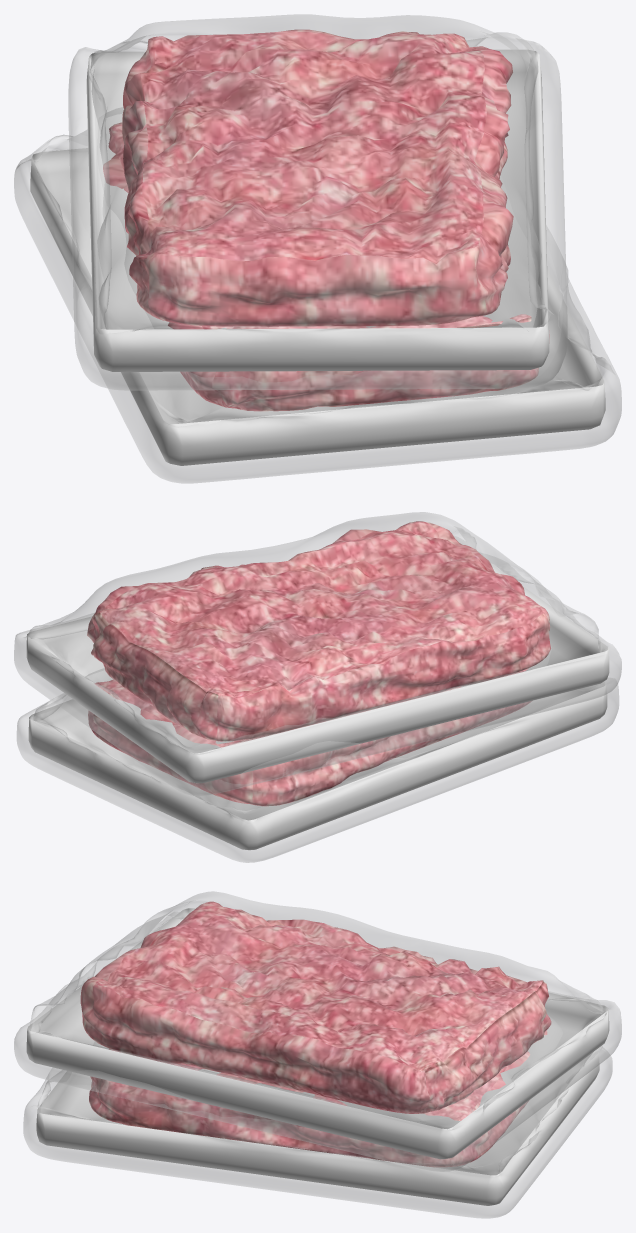
Rendered from mince.glb.
The picture shows the model from 3 angles, top to bottom: view 1: azimuth 30°, elevation 25°; view 2: azimuth 150°, elevation 25°; view 3: azimuth 270°, elevation 25°; orthographic projection. The views are drawn at different scales.
Visible parts, largest first — view 1: Wrap.001, MinceContainer.001, Wrap, MinceContainer; view 2: Wrap.001, MinceContainer.001, Wrap, MinceContainer; view 3: Wrap.001, MinceContainer.001, Wrap, MinceContainer.
Boxes of the visible parts, x1,y1,x2,y2 form: Wrap.001: [68, 14, 567, 390]; MinceContainer.001: [86, 29, 549, 371]; Wrap: [14, 107, 621, 483]; MinceContainer: [30, 122, 605, 465]; Wrap.001: [14, 512, 621, 795]; MinceContainer.001: [26, 521, 609, 783]; Wrap: [17, 648, 618, 862]; MinceContainer: [28, 668, 607, 850]; Wrap.001: [14, 891, 621, 1171]; MinceContainer.001: [26, 901, 609, 1159]; Wrap: [23, 1016, 612, 1218]; MinceContainer: [36, 1030, 599, 1205].
Size of the model in its own units: 0.891 by 0.292 by 0.9894.
3 materials, 1 textured.
